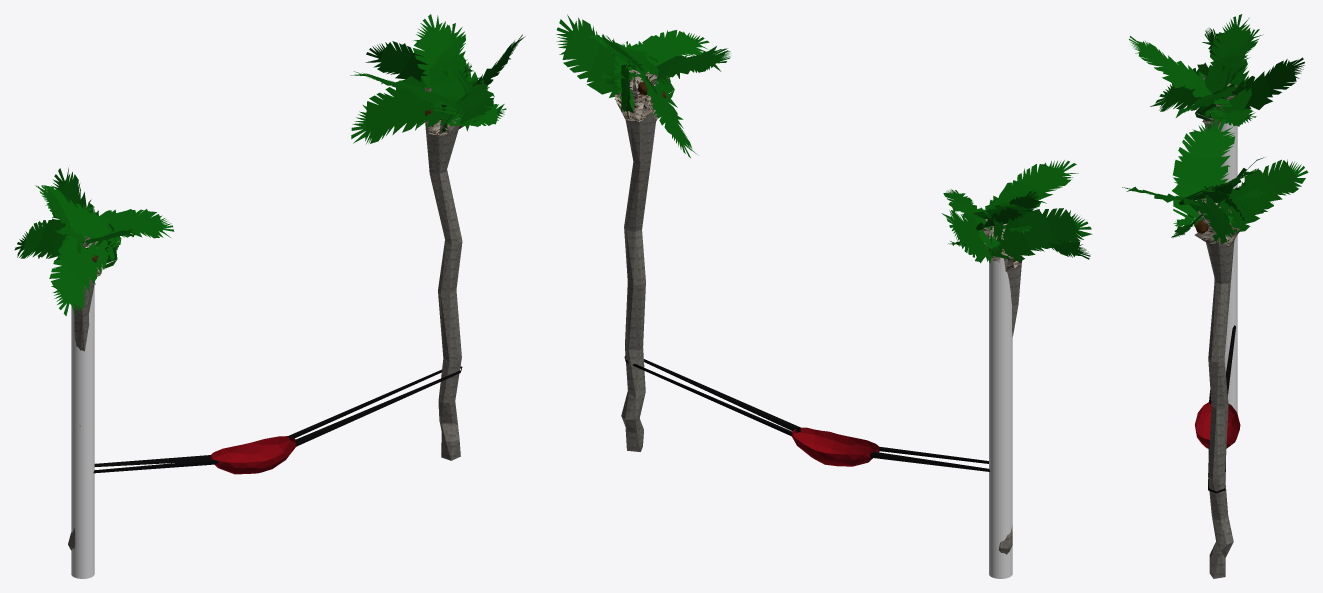
File: Hammock.glb
3 views of the same model, side by side, from view 1: azimuth 30°, elevation 25°; view 2: azimuth 150°, elevation 25°; view 3: azimuth 270°, elevation 25° (orthographic).
Parts seen in each view (by area): view 1: Branches, Branches.001, Trunk, Palm Tree-convcolonly.001, Hammock, Trunk.001; view 2: Branches, Branches.001, Trunk, Palm Tree-convcolonly.001, Hammock, Trunk.001; view 3: Branches, Branches.001, Trunk, Palm Tree-convcolonly.001, Hammock.
Boxes of the visible parts, left/top/right/bottom form: Branches: left=350, top=14, right=525, bottom=143; Branches.001: left=14, top=167, right=174, bottom=315; Trunk: left=425, top=87, right=463, bottom=460; Palm Tree-convcolonly.001: left=71, top=285, right=94, bottom=578; Hammock: left=93, top=366, right=462, bottom=474; Trunk.001: left=68, top=236, right=102, bottom=550; Branches: left=556, top=14, right=730, bottom=157; Branches.001: left=941, top=160, right=1092, bottom=263; Trunk: left=614, top=69, right=658, bottom=451; Palm Tree-convcolonly.001: left=989, top=257, right=1012, bottom=578; Hammock: left=624, top=356, right=990, bottom=471; Trunk.001: left=980, top=219, right=1022, bottom=554; Branches: left=1122, top=119, right=1308, bottom=244; Branches.001: left=1129, top=14, right=1304, bottom=126; Trunk: left=1191, top=198, right=1239, bottom=578; Palm Tree-convcolonly.001: left=1214, top=122, right=1237, bottom=413; Hammock: left=1195, top=325, right=1240, bottom=493.
Size of what is drawn, in the model's own units: 13.53 by 11.41 by 4.21.
6 materials, 2 textured.
